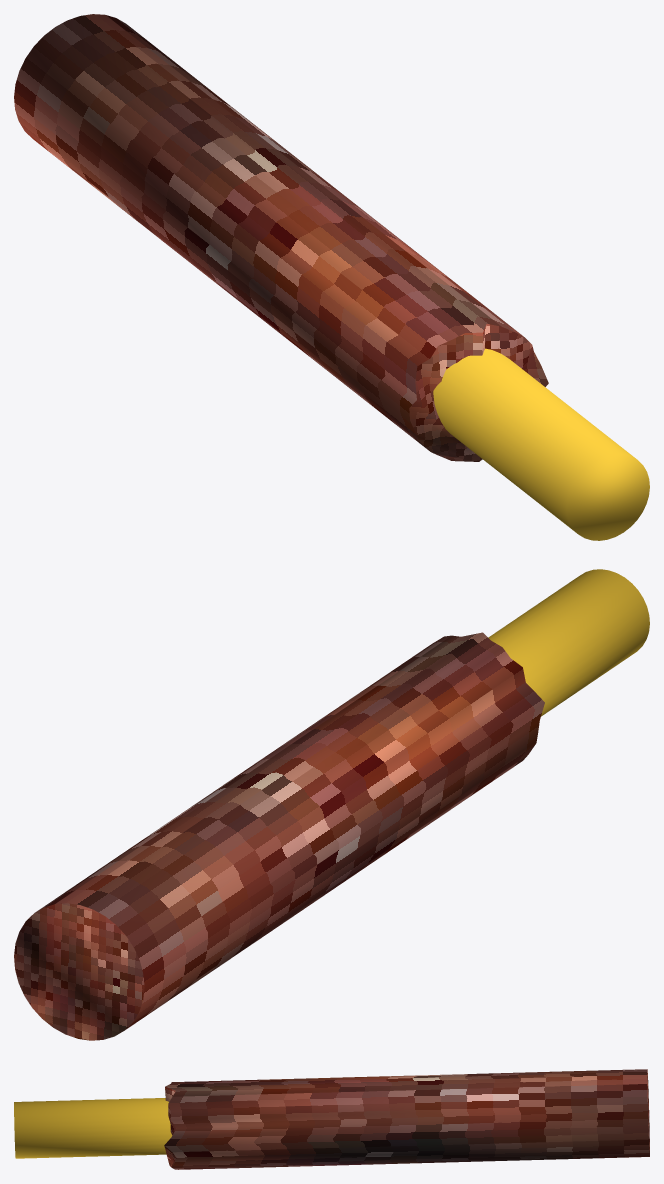
File: AL_DulceTamarindoSingle.fbx
3 views of the same model, one above another, from view 1: azimuth 30°, elevation 25°; view 2: azimuth 150°, elevation 25°; view 3: azimuth 270°, elevation 25° (orthographic). The views are drawn at different scales.
Parts seen in each view (by area): view 1: Cylinder; view 2: Cylinder; view 3: Cylinder.
Part boxes in pixels (x1,y1,x2,y2): Cylinder: [14, 14, 649, 540]; Cylinder: [14, 569, 649, 1040]; Cylinder: [14, 1069, 649, 1169].
Bounding box in the file's own units: 0.2869 × 0.046 × 0.0407.
